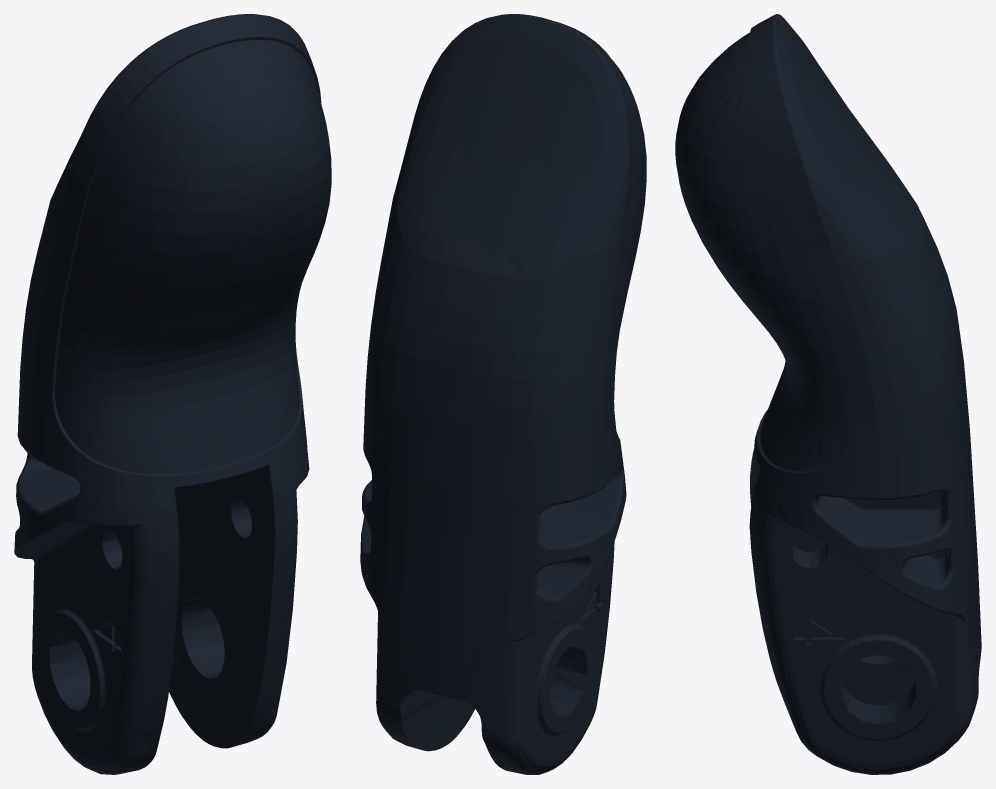
File: L_little_dist.obj
The picture shows the model from 3 angles, left to right: view 1: azimuth 30°, elevation 25°; view 2: azimuth 150°, elevation 25°; view 3: azimuth 270°, elevation 25°; orthographic projection. The views are drawn at different scales.
Visible parts, largest first — view 1: L_little_dist-mesh; view 2: L_little_dist-mesh; view 3: L_little_dist-mesh.
Part boxes in pixels (x1=…): L_little_dist-mesh: x1=14, y1=14, x2=331, y2=774; L_little_dist-mesh: x1=360, y1=14, x2=646, y2=774; L_little_dist-mesh: x1=675, y1=14, x2=981, y2=774.
Size of the model in its own units: 0.0147 by 0.0422 by 0.0163.
